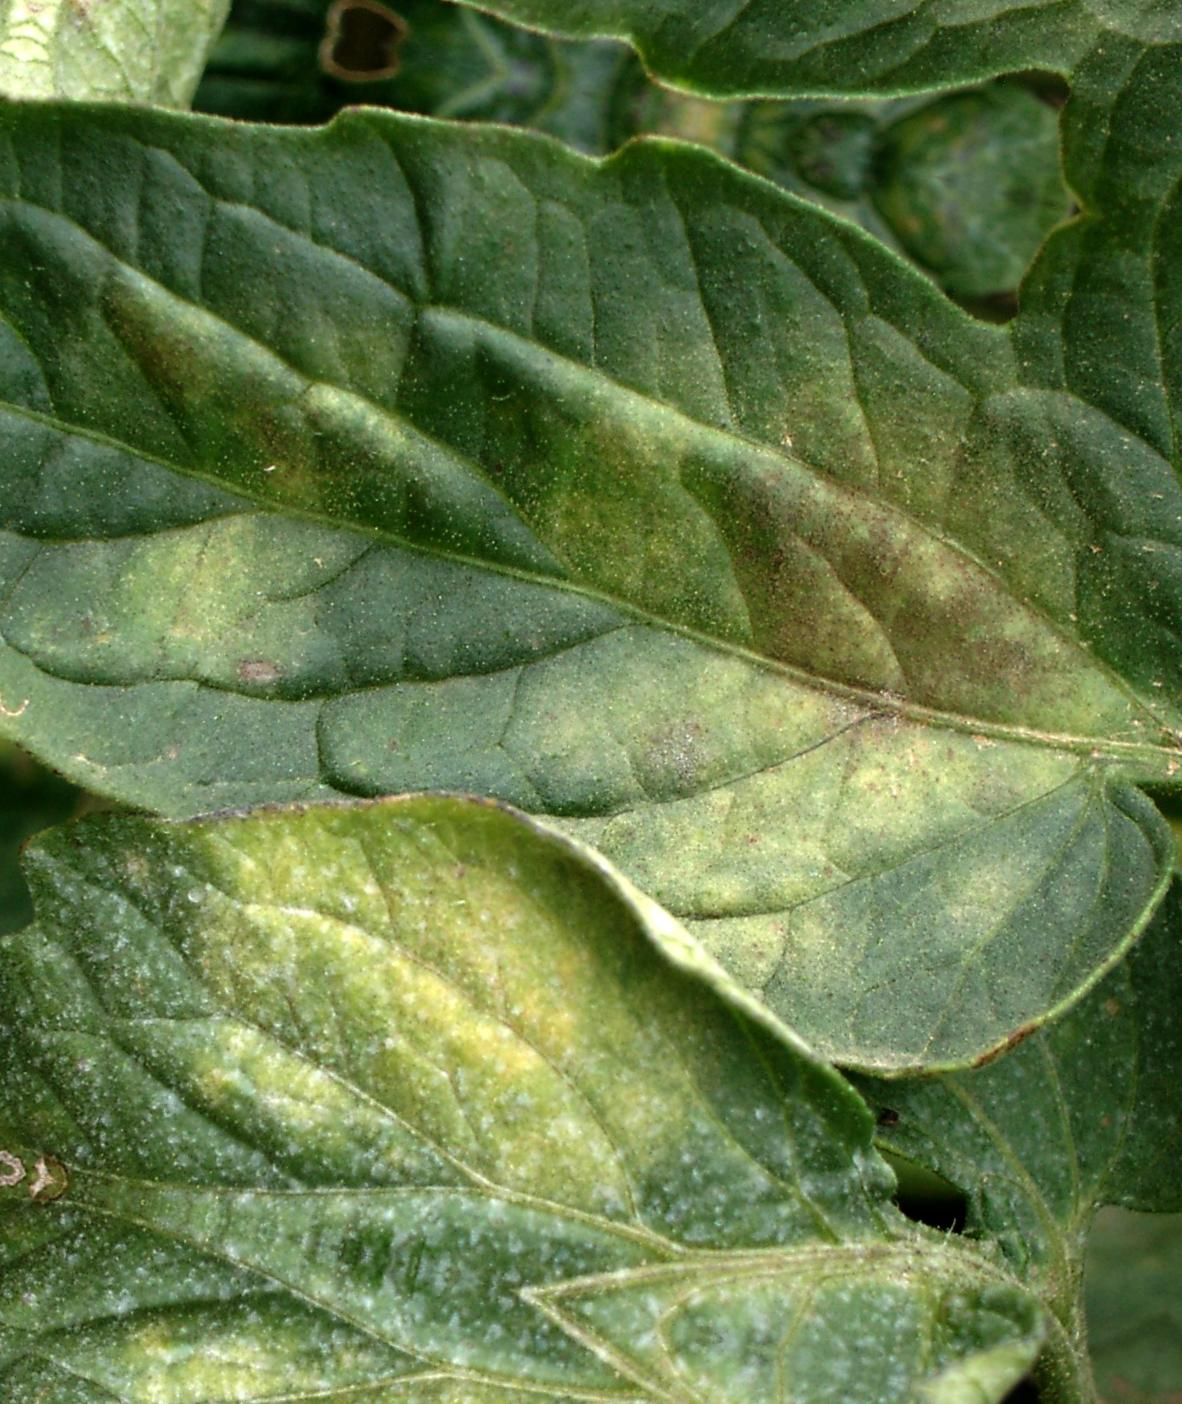Tomato mold leaf: (0, 0, 1182, 1145), (0, 662, 1052, 1392)
